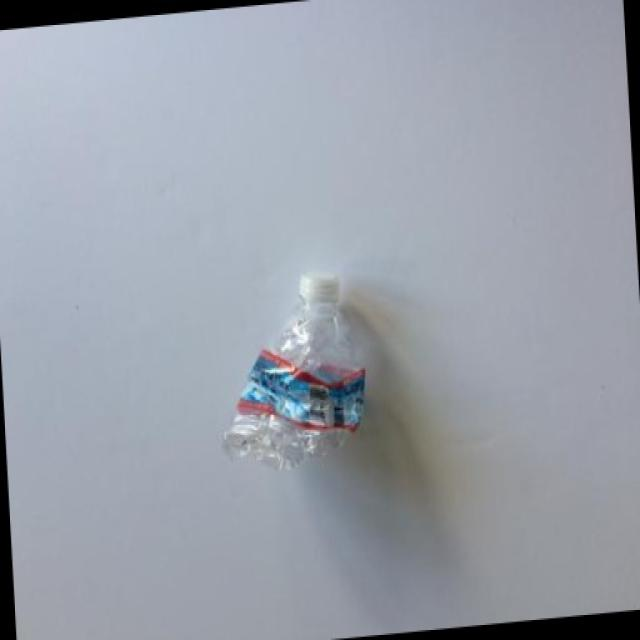plastico: (205, 253, 414, 512)
